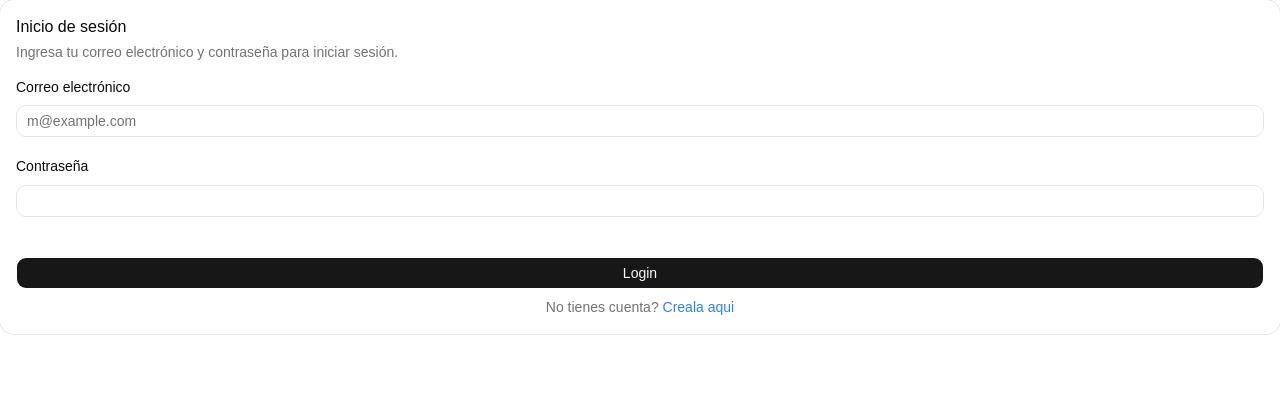
Scenario: LoginForm › Errores con campos vacíos
Click the button "Login": (640, 272) [16,256,1264,288]
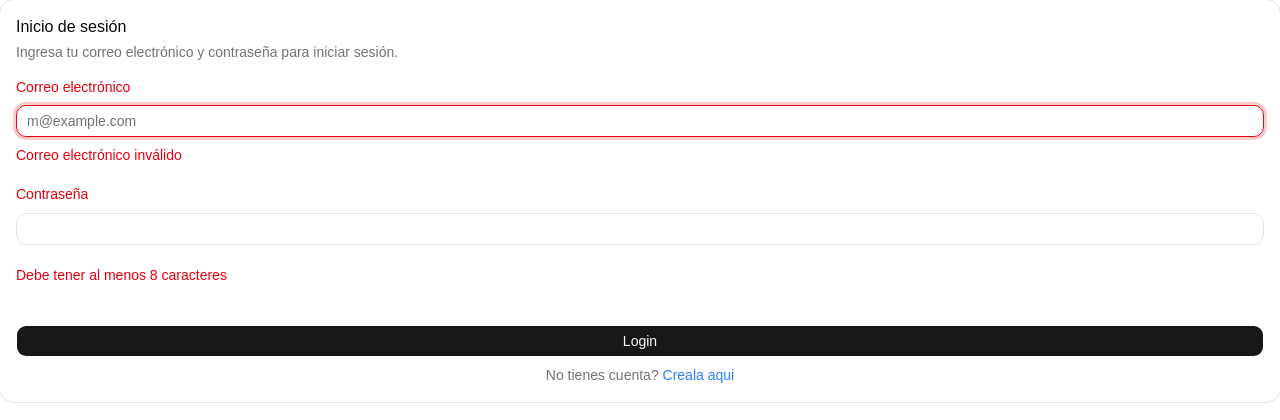
Check: the text "Correo electrónico inválido" is shown, box [16,147,182,163]
Check: the text "Debe tener al menos 8 caracteres" is shown, box [16,266,227,282]
